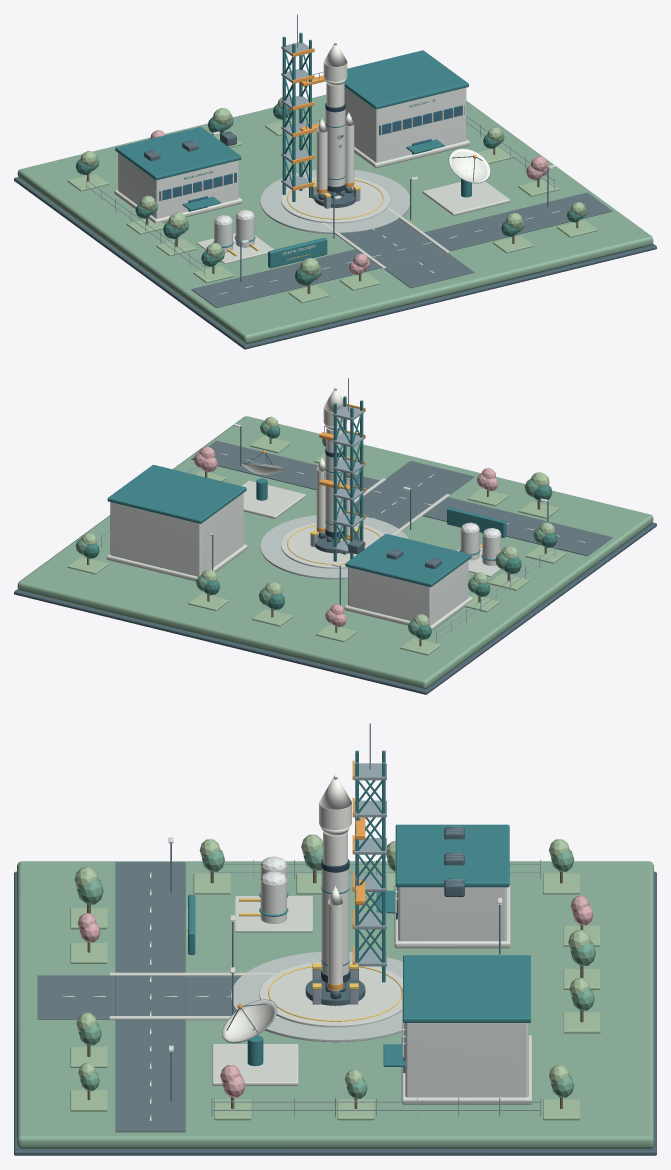
The model's file is launch-campus.glb.
3 views of the same model, one above another, from view 1: azimuth 30°, elevation 25°; view 2: azimuth 150°, elevation 25°; view 3: azimuth 270°, elevation 25° (orthographic). The views are drawn at different scales.
Parts seen in each view (by area): view 1: Environment_Grass, Environment_Teal, Environment_Asphalt, Environment_Ivory, Environment_ConcreteLight, Environment_DarkSteel, Environment_GrassLight, Environment_Concrete, LaunchVehicle_Paper, Environment_Steel, Environment_TreeLight, Environment_Glass (+6 smaller); view 2: Environment_Grass, Environment_Ivory, Environment_Teal, Environment_Asphalt, Environment_ConcreteLight, Environment_DarkSteel, Environment_GrassLight, Environment_Steel, Environment_Concrete, Environment_TreeDark, LaunchVehicle_Paper, Environment_TreeLight (+4 smaller); view 3: Environment_Grass, Environment_Asphalt, Environment_Teal, Environment_Ivory, Environment_ConcreteLight, Environment_GrassLight, Environment_DarkSteel, Environment_Steel, Environment_Concrete, Environment_TreeMid, LaunchVehicle_Paper, Environment_TreeLight (+5 smaller).
Boxes of the visible parts, left/top/right/bottom form: Environment_Grass: left=17, top=94, right=653, bottom=343; Environment_Teal: left=115, top=32, right=471, bottom=268; Environment_Asphalt: left=191, top=192, right=612, bottom=308; Environment_Ivory: left=118, top=87, right=555, bottom=252; Environment_ConcreteLight: left=114, top=139, right=510, bottom=269; Environment_DarkSteel: left=14, top=131, right=656, bottom=349; Environment_GrassLight: left=67, top=118, right=597, bottom=302; Environment_Concrete: left=260, top=169, right=409, bottom=233; LaunchVehicle_Paper: left=316, top=41, right=354, bottom=193; Environment_Steel: left=86, top=14, right=555, bottom=275; Environment_TreeLight: left=80, top=96, right=585, bottom=275; Environment_Glass: left=159, top=105, right=464, bottom=211; Environment_Grass: left=17, top=416, right=653, bottom=689; Environment_Ivory: left=110, top=423, right=547, bottom=625; Environment_Teal: left=107, top=396, right=506, bottom=587; Environment_Asphalt: left=191, top=440, right=612, bottom=556; Environment_ConcreteLight: left=106, top=478, right=500, bottom=630; Environment_DarkSteel: left=14, top=426, right=656, bottom=694; Environment_GrassLight: left=67, top=435, right=566, bottom=655; Environment_Steel: left=86, top=378, right=555, bottom=643; Environment_Concrete: left=260, top=515, right=408, bottom=579; Environment_TreeDark: left=83, top=426, right=557, bottom=639; LaunchVehicle_Paper: left=316, top=386, right=354, bottom=537; Environment_TreeLight: left=81, top=416, right=554, bottom=625; Environment_Grass: left=17, top=861, right=653, bottom=1148; Environment_Asphalt: left=37, top=862, right=240, bottom=1132; Environment_Teal: left=188, top=750, right=530, bottom=1066; Environment_Ivory: left=168, top=837, right=528, bottom=1097; Environment_ConcreteLight: left=109, top=884, right=532, bottom=1104; Environment_GrassLight: left=70, top=873, right=600, bottom=1120; Environment_DarkSteel: left=14, top=827, right=656, bottom=1155; Environment_Steel: left=211, top=723, right=541, bottom=1116; Environment_Concrete: left=230, top=951, right=402, bottom=1042; Environment_TreeMid: left=78, top=847, right=595, bottom=1098; LaunchVehicle_Paper: left=319, top=774, right=351, bottom=990; Environment_TreeLight: left=74, top=834, right=591, bottom=1086.
Bounding box in the file's own units: 32.3 × 14.79 × 31.3.
